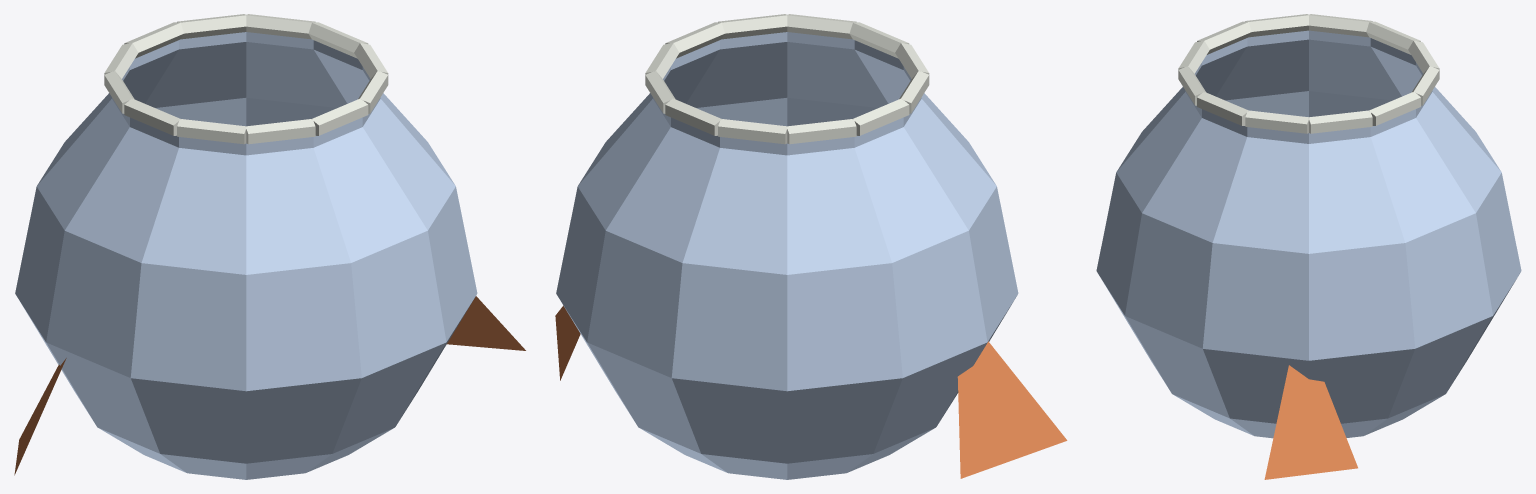
The model's file is Bowlfish.fbx.
The picture shows the model from 3 angles, left to right: view 1: azimuth 30°, elevation 25°; view 2: azimuth 150°, elevation 25°; view 3: azimuth 270°, elevation 25°; orthographic projection. The views are drawn at different scales.
Visible parts, largest first — view 1: GlassBowl, BowlFin-1, Lip1, Lip2, Lip8, Lip7, Lip3, Lip0, Lip9, Lip6, BowlFin1, Lip11 (+3 smaller); view 2: GlassBowl, BowlFin1, Lip9, Lip10, Lip4, Lip3, Lip11, Lip8, BowlFin-1, Lip5, Lip2, Lip0 (+3 smaller); view 3: GlassBowl, BowlFin-1, Lip5, Lip6, Lip0, Lip11, Lip4, Lip7, Lip1, Lip10, Lip3, Lip8 (+2 smaller).
Part boxes in pixels (<box>): GlassBowl: <box>15,32,477,479</box>; BowlFin-1: <box>447,296,525,350</box>; Lip1: <box>177,119,246,144</box>; Lip2: <box>245,119,315,144</box>; Lip8: <box>177,14,246,39</box>; Lip7: <box>246,14,315,39</box>; Lip3: <box>311,98,368,135</box>; Lip0: <box>124,98,180,135</box>; Lip9: <box>124,22,183,58</box>; Lip6: <box>308,22,368,58</box>; BowlFin1: <box>14,358,66,475</box>; Lip11: <box>104,70,134,113</box>; GlassBowl: <box>556,32,1018,479</box>; BowlFin1: <box>957,341,1067,478</box>; Lip9: <box>718,119,787,144</box>; Lip10: <box>786,119,856,144</box>; Lip4: <box>718,14,787,39</box>; Lip3: <box>787,14,856,39</box>; Lip11: <box>852,98,909,135</box>; Lip8: <box>665,98,721,135</box>; BowlFin-1: <box>555,305,580,380</box>; Lip5: <box>665,22,724,58</box>; Lip2: <box>849,22,909,58</box>; Lip0: <box>899,70,929,113</box>; GlassBowl: <box>1096,30,1521,438</box>; BowlFin-1: <box>1264,365,1357,479</box>; Lip5: <box>1245,110,1309,133</box>; Lip6: <box>1308,110,1372,133</box>; Lip0: <box>1245,14,1309,37</box>; Lip11: <box>1308,14,1372,37</box>; Lip4: <box>1197,92,1248,125</box>; Lip7: <box>1369,92,1420,125</box>; Lip1: <box>1197,21,1251,54</box>; Lip10: <box>1366,21,1420,54</box>; Lip3: <box>1178,66,1205,105</box>; Lip8: <box>1412,66,1439,105</box>.
Size of the model in its own units: 1.1 by 0.7371 by 0.86.
